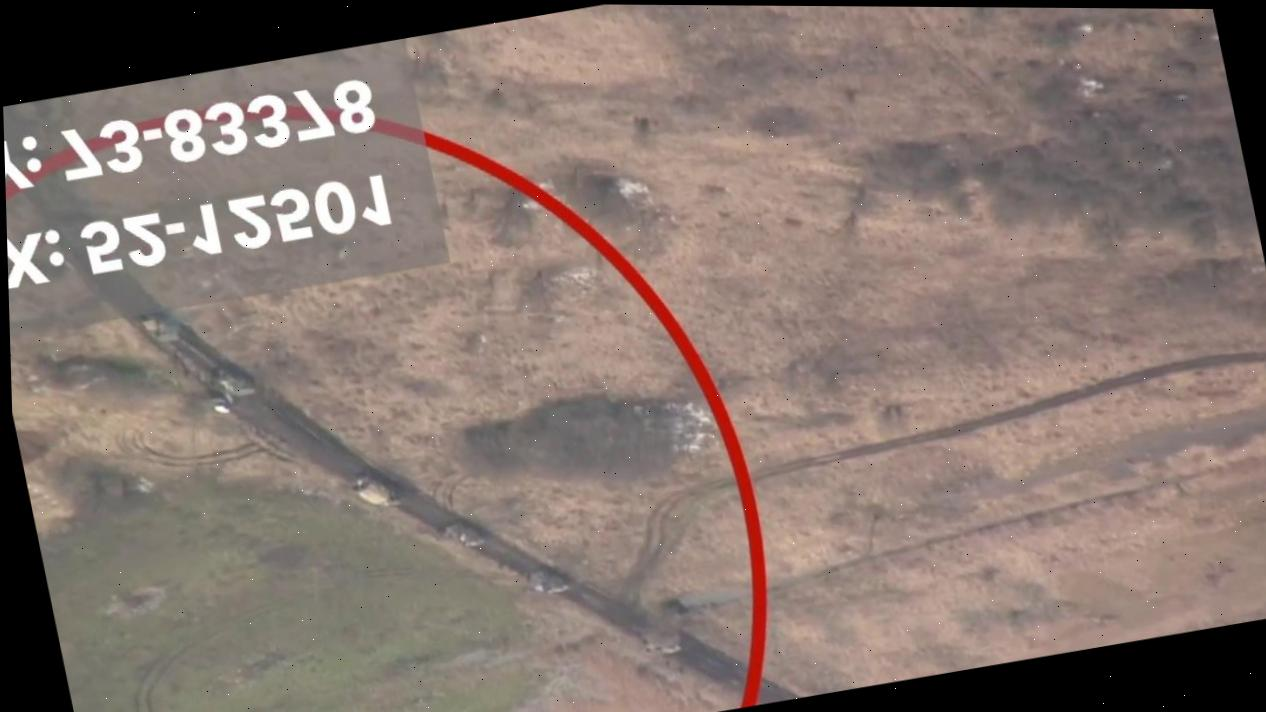armored_car: (527, 561, 572, 597), (445, 516, 487, 551)
car: (209, 392, 234, 416)
tank: (139, 303, 186, 348), (216, 364, 258, 399)
truck: (353, 465, 408, 513), (640, 622, 686, 660)
